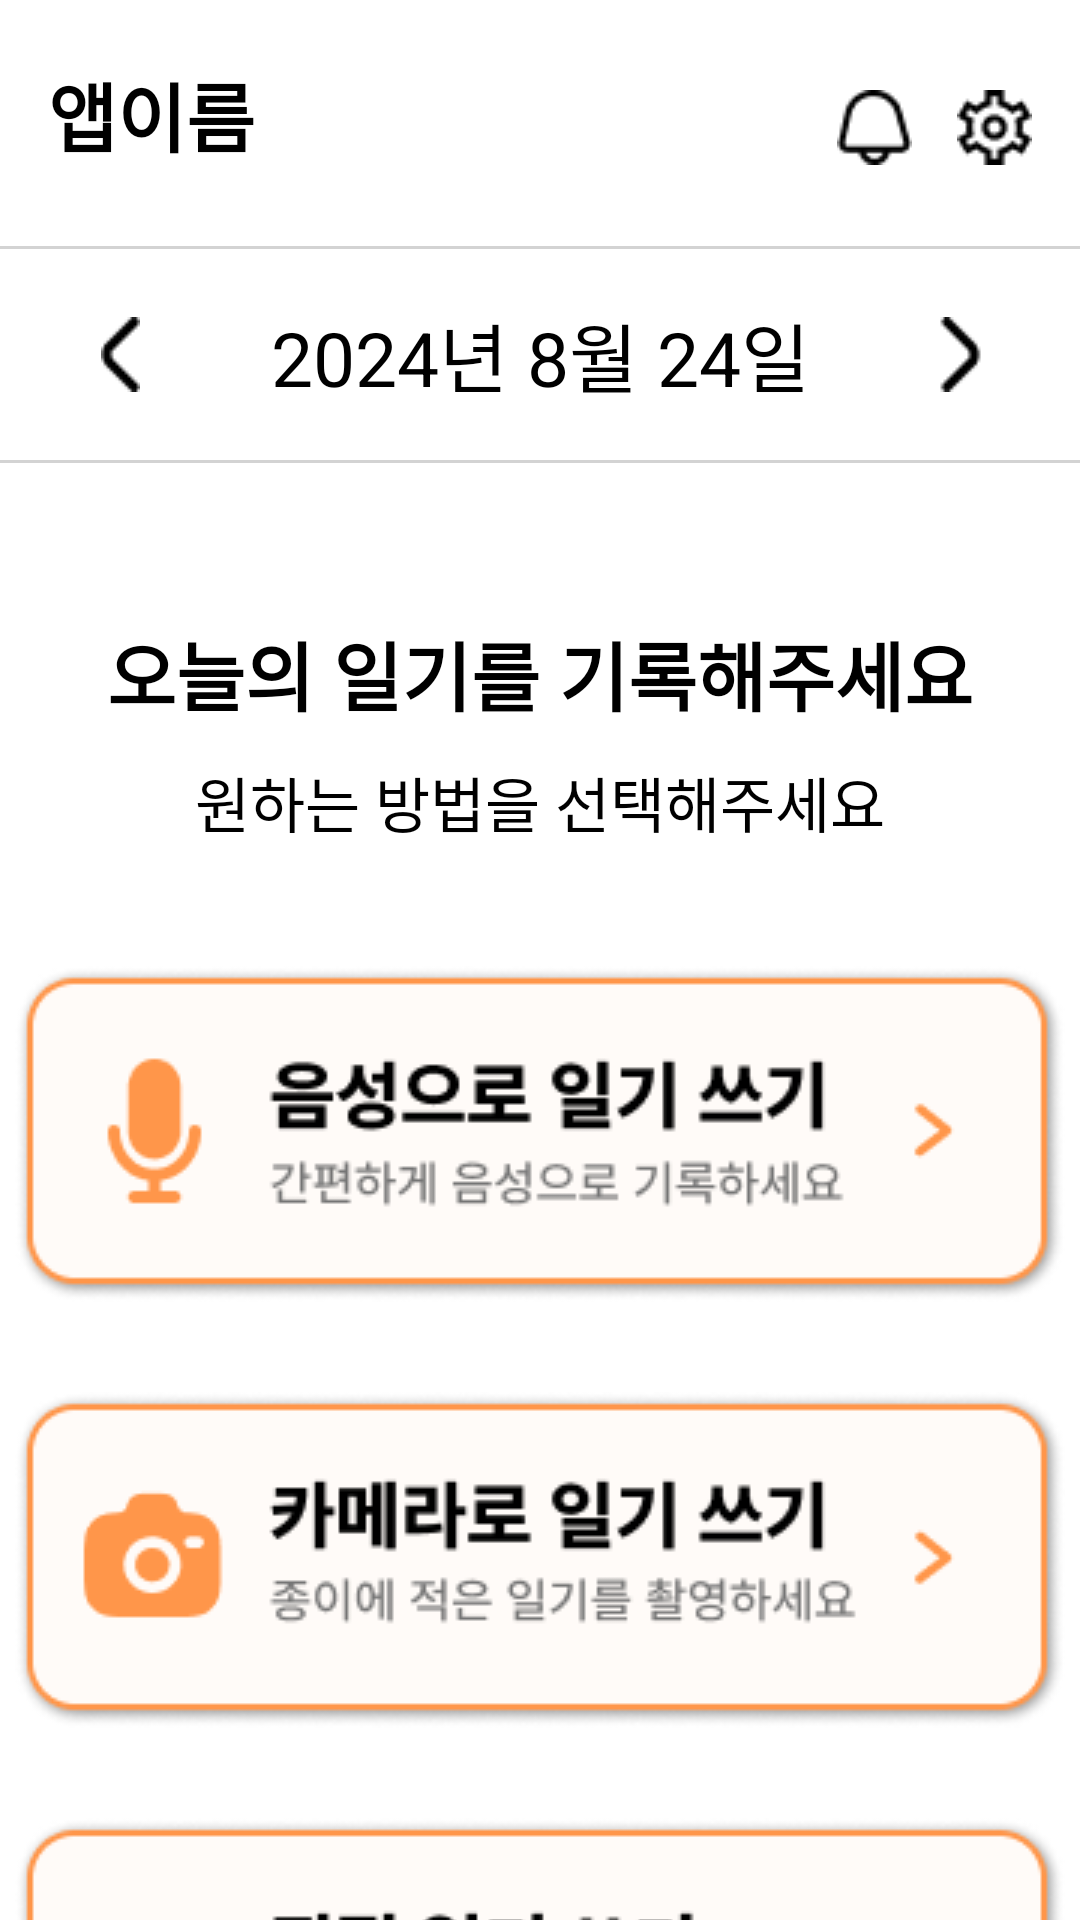

Point at icon controls on the screen. Image size 1080px x 1920px, points as (x,y).
bell: (874,127)
left arrow: (120,354)
right arrow: (960,354)
setting: (994,127)
